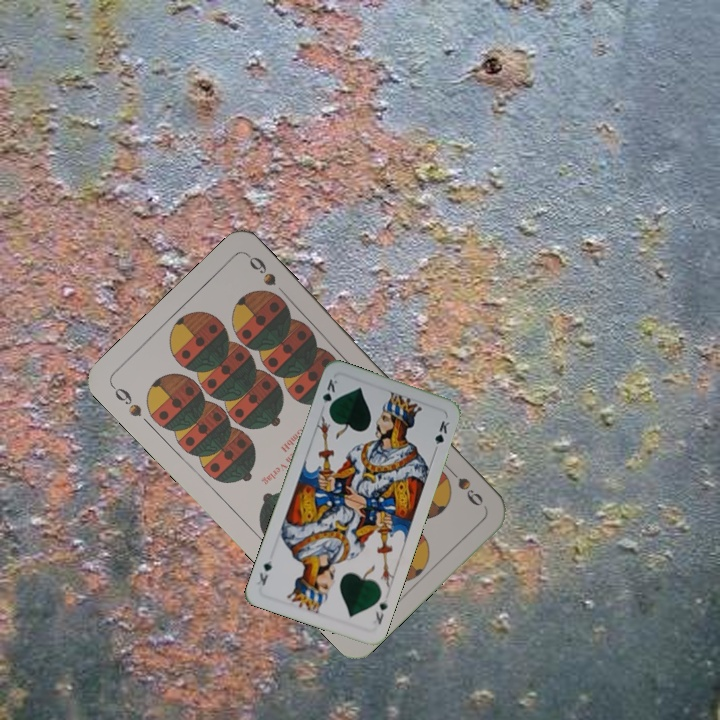GK: (318, 375, 341, 415), (371, 595, 390, 627)
S9: (442, 462, 487, 509), (107, 381, 145, 420)
